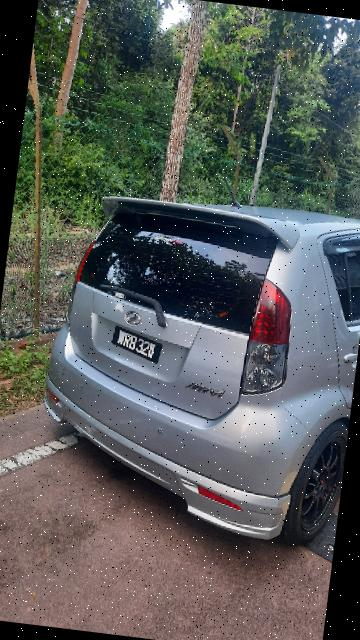License_Plate: (104, 325, 169, 367)
car: (18, 173, 360, 555)
